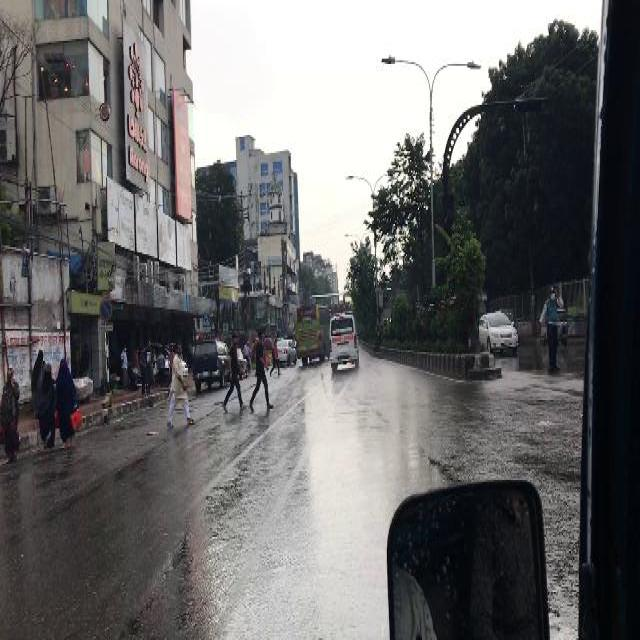ambulance: (329, 311, 358, 372)
bus: (295, 304, 327, 364)
car: (479, 312, 518, 353), (278, 340, 296, 364)
pickup: (192, 338, 228, 391)
three wheelers -CNG-: (557, 308, 569, 347)
